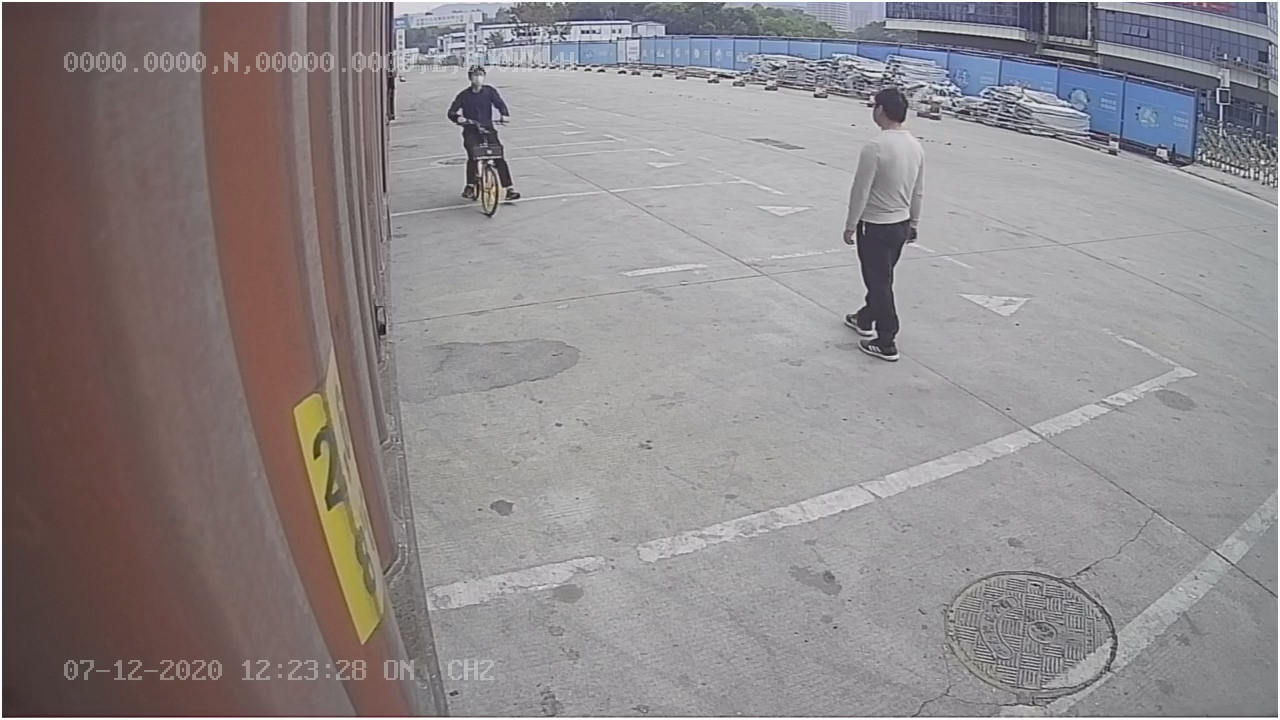person: (834, 85, 934, 365)
